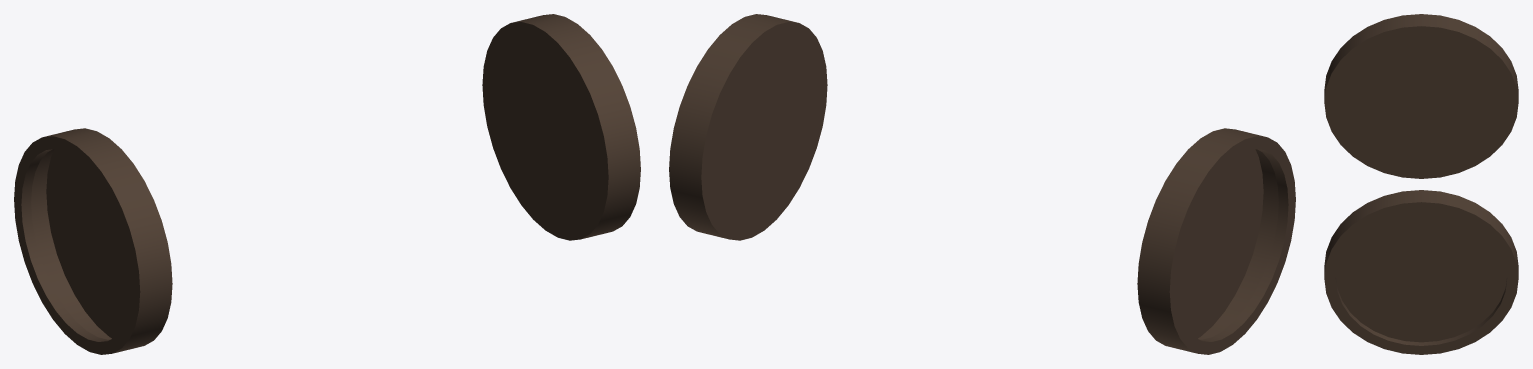
Rendered from MarcoCostado.fbx.
3 views of the same model, side by side, from view 1: azimuth 30°, elevation 25°; view 2: azimuth 150°, elevation 25°; view 3: azimuth 270°, elevation 25° (orthographic). The views are drawn at different scales.
Parts seen in each view (by area): view 1: marcocostado; view 2: marcocostado; view 3: marcocostado.
Part boxes in pixels (<box>): marcocostado: <box>14,14,640,354</box>; marcocostado: <box>669,14,1295,354</box>; marcocostado: <box>1324,14,1518,354</box>.
Bounding box in the file's own units: 4654 × 1763 × 2032.
